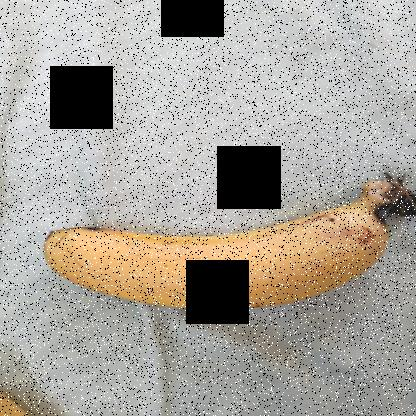ripe: (37, 197, 388, 318)
